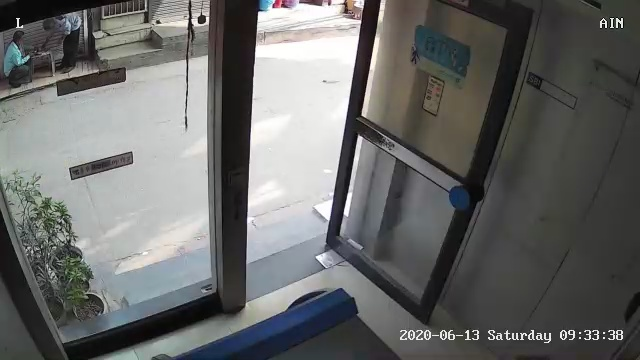open: (198, 3, 540, 352)
